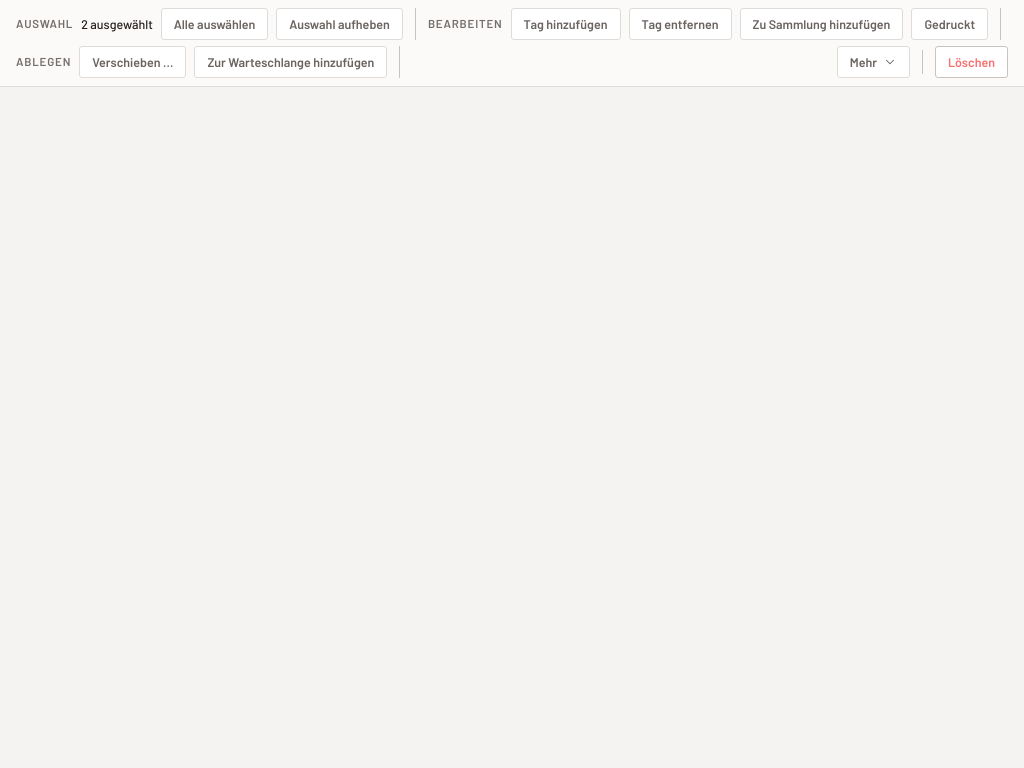
BulkActionToolbar groups and More menu › closes on Tab and on a click outside
This screenshot has width=1024, height=768.
Click the button "Mehr" at (873, 62), box [837,46,910,78]
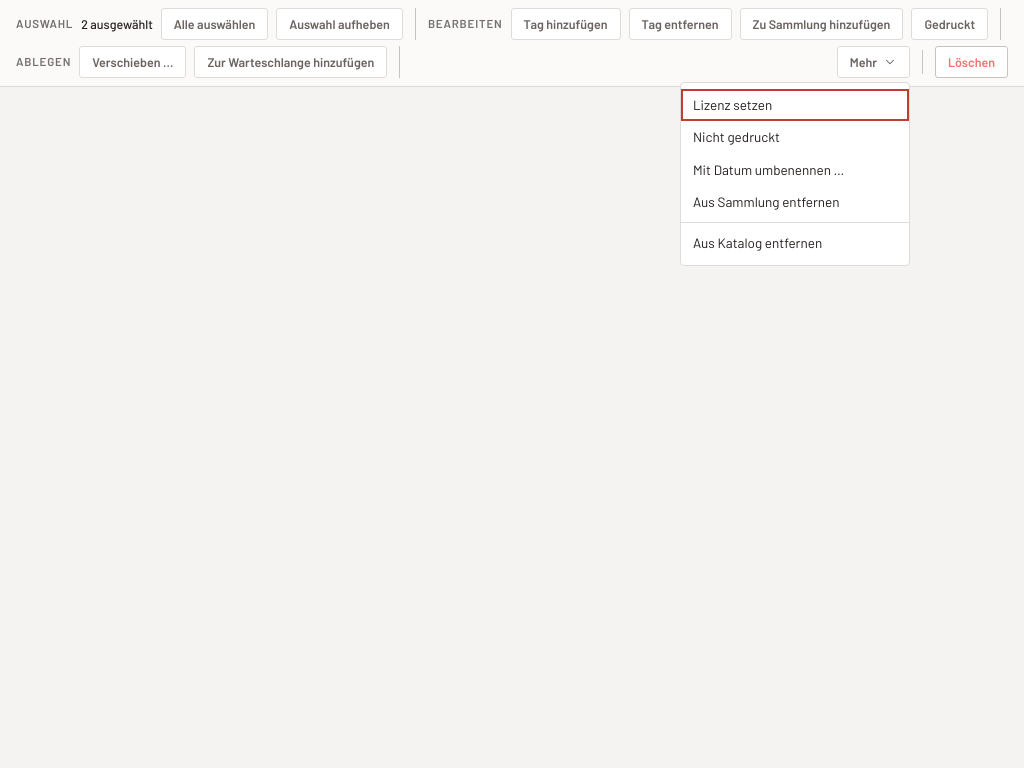
Press Tab in the menu item "Lizenz setzen", box [681,89,909,121]
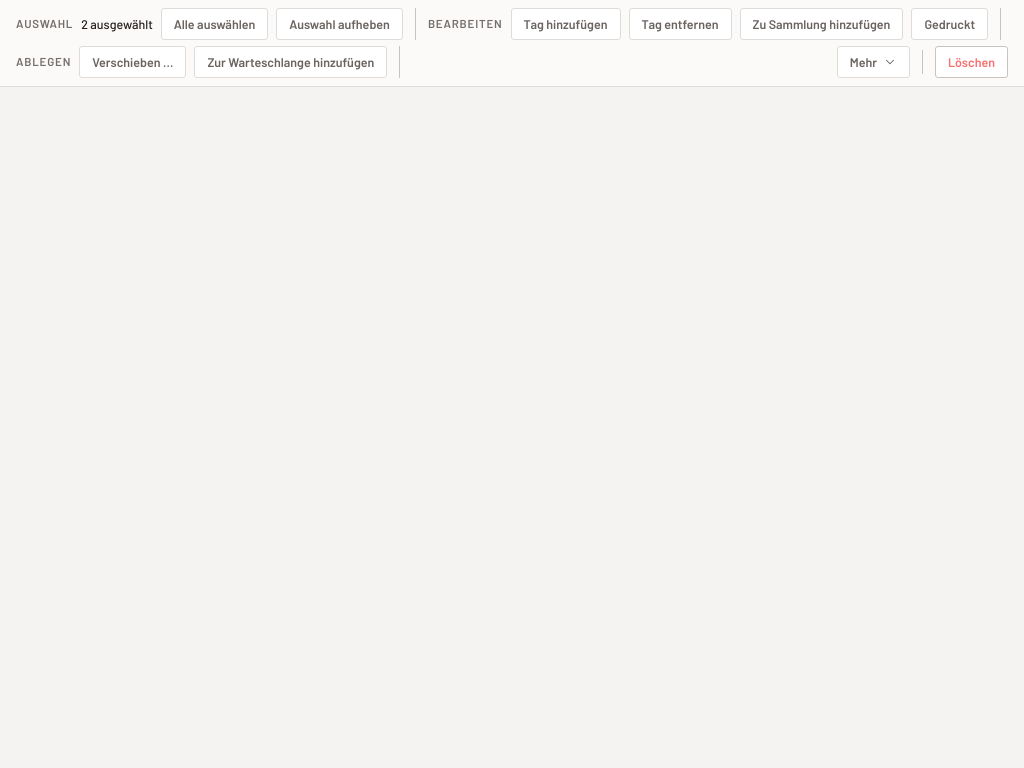
Expected: the menu is gone
Click the button "Mehr" at (873, 62), box [837,46,910,78]
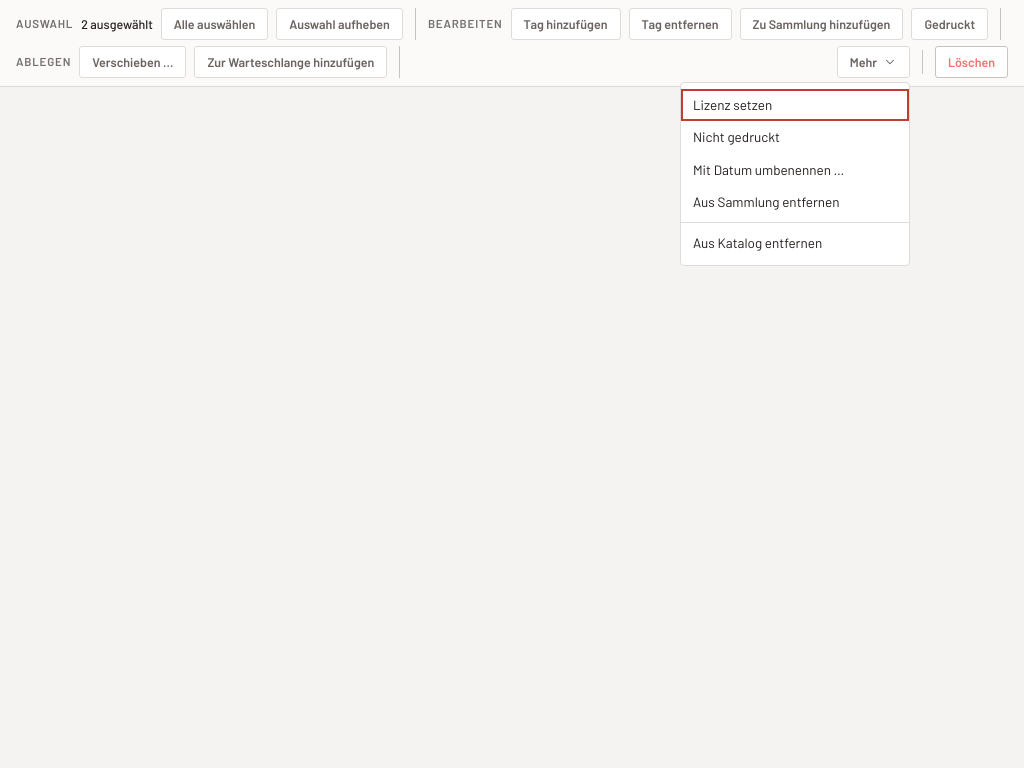
Press the mouse on the element that starts with "Auswahl" at (512, 384), box [0,0,1023,767]
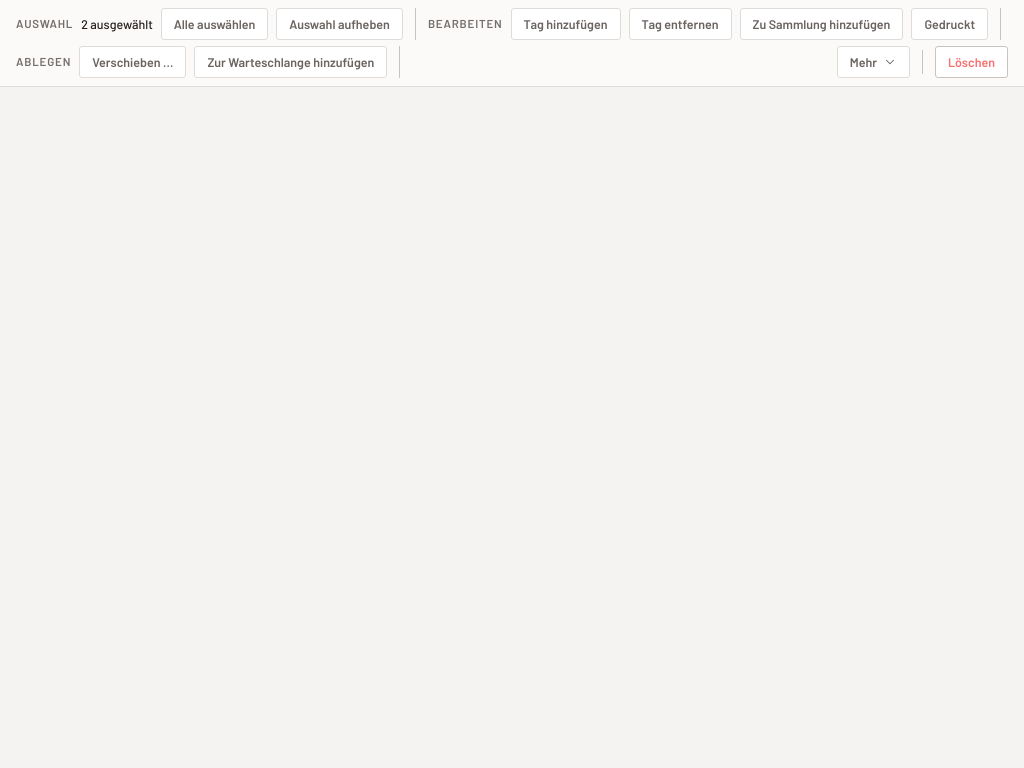
Expected: the button "Mehr" is shown, [837,46,910,78]
Expected: the menu is gone
